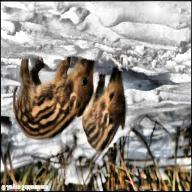boar: (1, 40, 92, 157), (84, 64, 143, 158)
